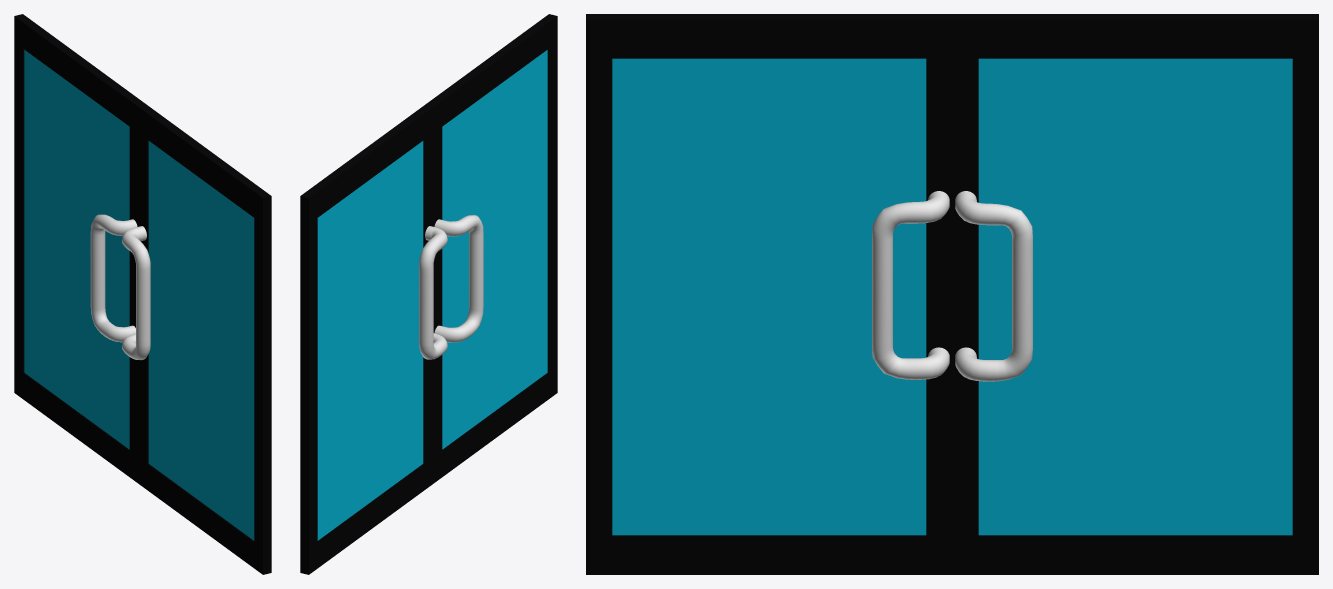
The model's file is fixedentrancedoor.fbx.
The picture shows the model from 3 angles, left to right: view 1: azimuth 30°, elevation 25°; view 2: azimuth 150°, elevation 25°; view 3: azimuth 270°, elevation 25°; orthographic projection. The views are drawn at different scales.
Visible parts, largest first — view 1: door1, door1.001, HANDLE 2.001, HANDLE 1; view 2: door1.001, door1, HANDLE 1, HANDLE 2.001; view 3: door1, door1.001, HANDLE 1.001, HANDLE 2.
Boxes of the visible parts, x1=… form: door1: x1=138, y1=105, x2=271, y2=574; door1.001: x1=14, y1=14, x2=146, y2=483; HANDLE 2.001: x1=90, y1=214, x2=137, y2=342; HANDLE 1: x1=122, y1=226, x2=150, y2=360; door1.001: x1=300, y1=105, x2=433, y2=574; door1: x1=425, y1=14, x2=557, y2=483; HANDLE 1: x1=434, y1=215, x2=483, y2=342; HANDLE 2.001: x1=419, y1=226, x2=447, y2=359; door1: x1=586, y1=14, x2=952, y2=574; door1.001: x1=952, y1=14, x2=1318, y2=574; HANDLE 1.001: x1=955, y1=191, x2=1032, y2=381; HANDLE 2: x1=872, y1=191, x2=949, y2=379.
Bounding box in the file's own units: 139 × 837 × 1003.
